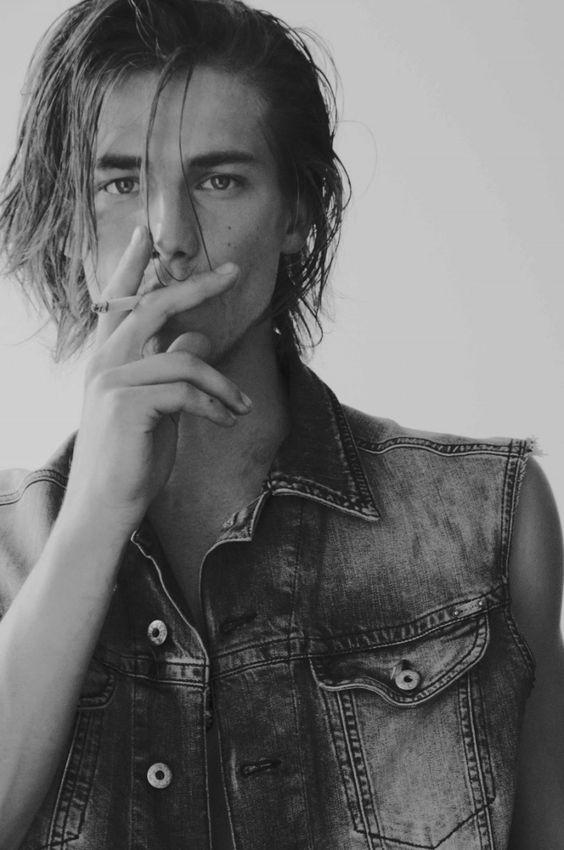cigarette: (91, 295, 144, 313)
